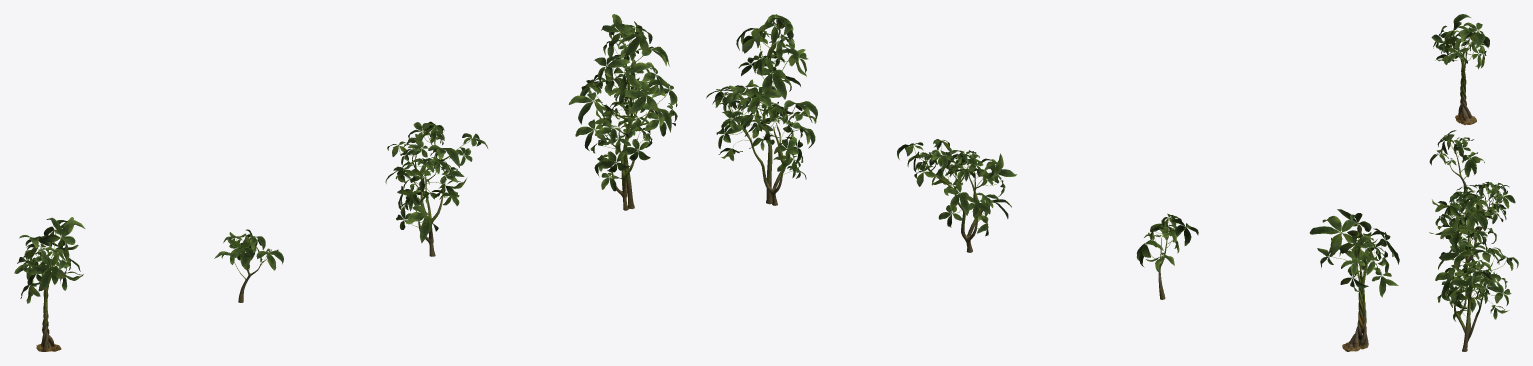
File: pachira_aquatica_01.glb
3 renders of one model, left to right at view 1: azimuth 30°, elevation 25°; view 2: azimuth 150°, elevation 25°; view 3: azimuth 270°, elevation 25°, orthographic. The views are drawn at different scales.
Parts seen in each view (by area): view 1: pachira_aquatica_01_leaves_a, pachira_aquatica_01_bark_a; view 2: pachira_aquatica_01_leaves_a, pachira_aquatica_01_bark_a; view 3: pachira_aquatica_01_leaves_a, pachira_aquatica_01_bark_a.
Boxes of the visible parts, box(x1,y1,x2,y2) form: pachira_aquatica_01_leaves_a: box(14, 14, 677, 303); pachira_aquatica_01_bark_a: box(36, 44, 652, 351); pachira_aquatica_01_leaves_a: box(706, 14, 1399, 297); pachira_aquatica_01_bark_a: box(728, 43, 1368, 351); pachira_aquatica_01_leaves_a: box(1429, 14, 1518, 321); pachira_aquatica_01_bark_a: box(1447, 50, 1497, 351).
Bounding box in the file's own units: 6.87 × 1.9 × 0.997.
Materials: 2 (2 with a texture image).
